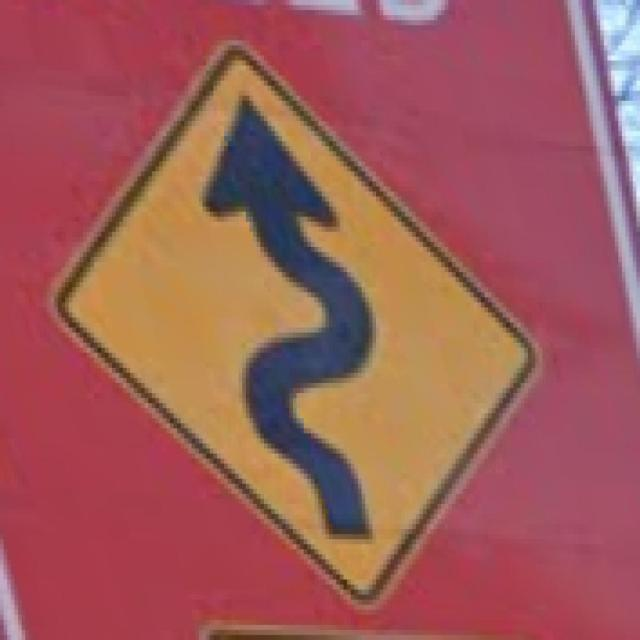Banyak Tikungan Pertama Kiri: (40, 25, 546, 610)
